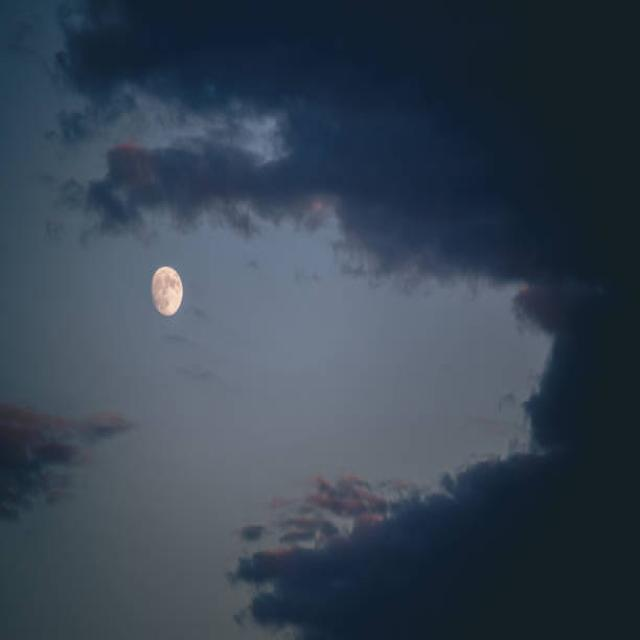moon: (146, 260, 187, 317)
